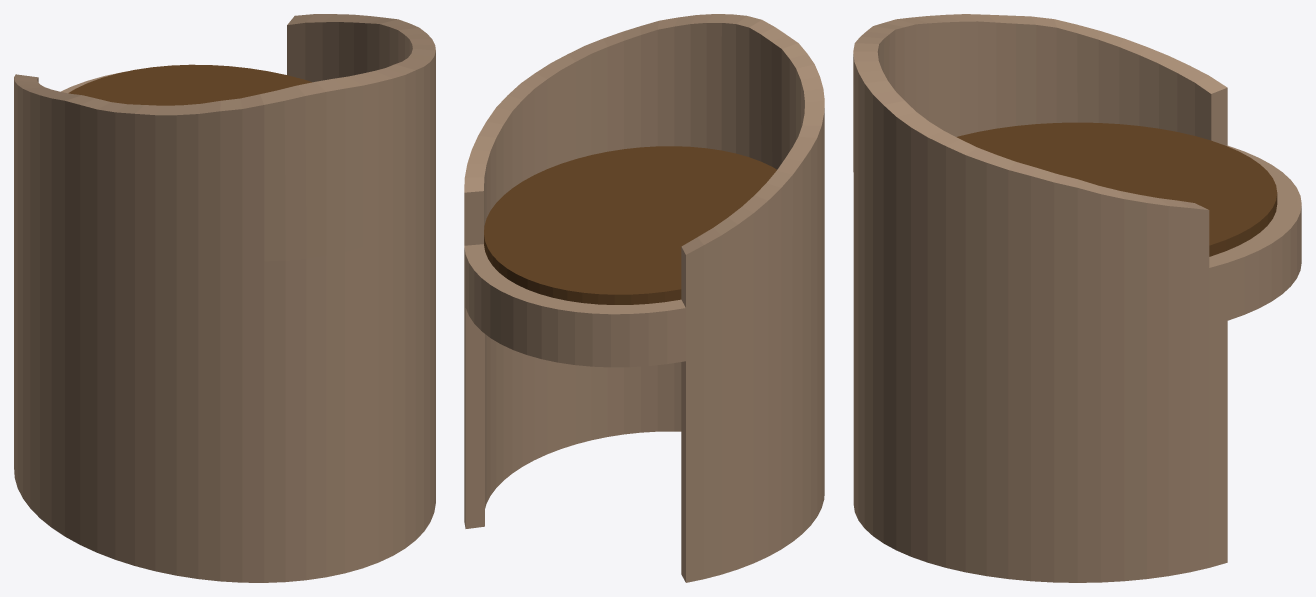
The model's file is mancavechair.gltf.
3 renders of one model, left to right at view 1: azimuth 30°, elevation 25°; view 2: azimuth 150°, elevation 25°; view 3: azimuth 270°, elevation 25°, orthographic. The views are drawn at different scales.
Visible parts, largest first — view 1: Cylinder; view 2: Cylinder; view 3: Cylinder.
Boxes of the visible parts, x1,y1,x2,y2 form: Cylinder: (14, 14, 435, 582); Cylinder: (464, 14, 824, 582); Cylinder: (853, 14, 1301, 582).
Bounding box in the file's own units: 2.1 × 2.81 × 2.52.
